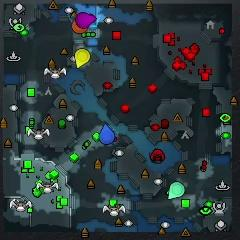p1: (99, 124, 115, 144)
p2: (168, 182, 185, 199)
p3: (75, 12, 97, 28)
p4: (74, 49, 90, 68)
p5: (71, 19, 87, 35)
